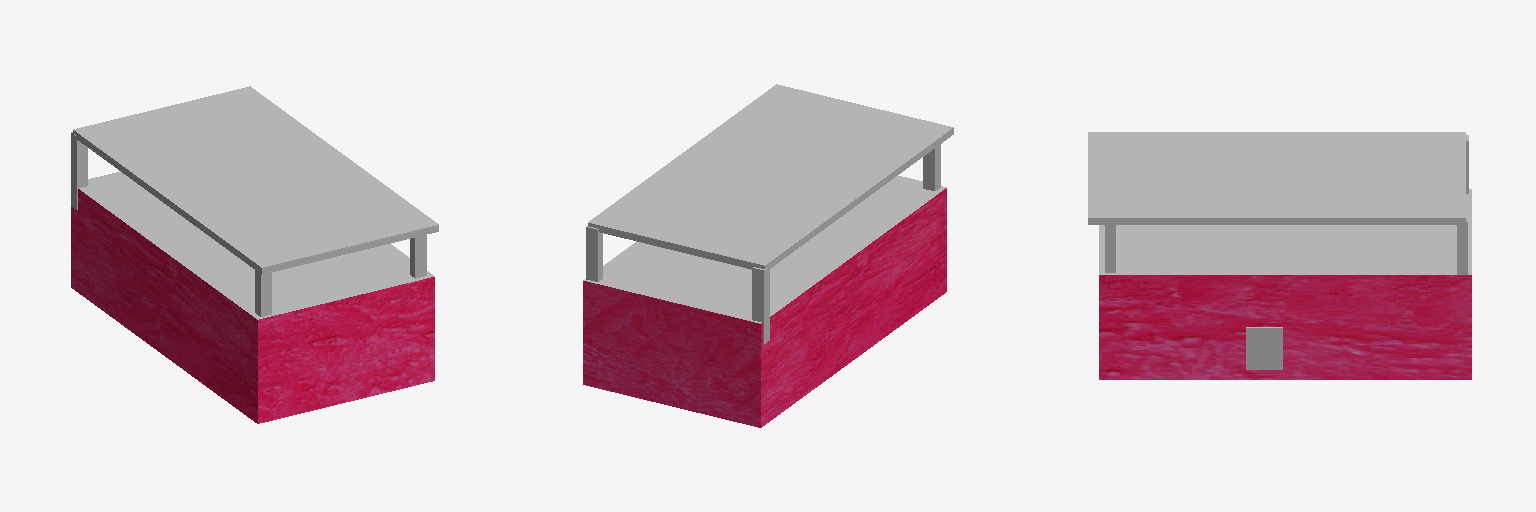
3 views of the same model, side by side, from view 1: azimuth 30°, elevation 25°; view 2: azimuth 150°, elevation 25°; view 3: azimuth 270°, elevation 25° (orthographic).
Visible parts, largest first — view 1: Cube.001, Cube.006, Cube.002, Cube.005, Cube.003; view 2: Cube.001, Cube.006, Cube.002, Cube.004, Cube.005; view 3: Cube.001, Cube.006, Cube, Cube.004, Cube.003.
Part boxes in pixels (bbox=[...]): Cube.001: bbox=[71, 171, 434, 423]; Cube.006: bbox=[73, 86, 438, 274]; Cube.002: bbox=[71, 132, 87, 209]; Cube.005: bbox=[255, 270, 271, 316]; Cube.003: bbox=[410, 235, 426, 278]; Cube.001: bbox=[583, 176, 946, 427]; Cube.006: bbox=[588, 84, 953, 269]; Cube.002: bbox=[752, 267, 769, 344]; Cube.004: bbox=[586, 226, 602, 281]; Cube.005: bbox=[923, 144, 940, 190]; Cube.001: bbox=[1099, 189, 1471, 379]; Cube.006: bbox=[1088, 132, 1465, 224]; Cube: bbox=[1246, 327, 1282, 369]; Cube.004: bbox=[1457, 216, 1467, 274]; Cube.003: bbox=[1105, 225, 1115, 272].
Bounding box in the file's own units: 9.01 × 7.65 × 16.57.
8 materials, 1 textured.